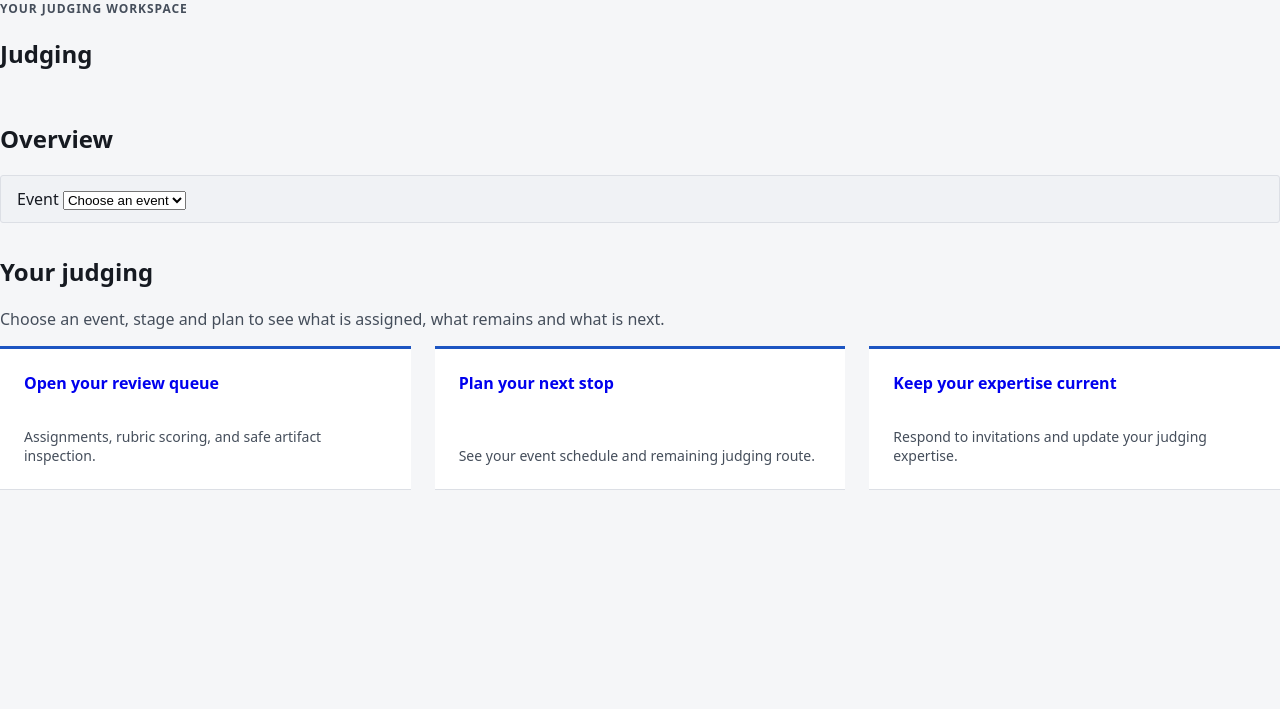
judge navigation › clears the old review queue when switching events
Step 1. Select "First" in the dropdown labelled "Event" → coordinates (124, 200), box [63,191,186,210]
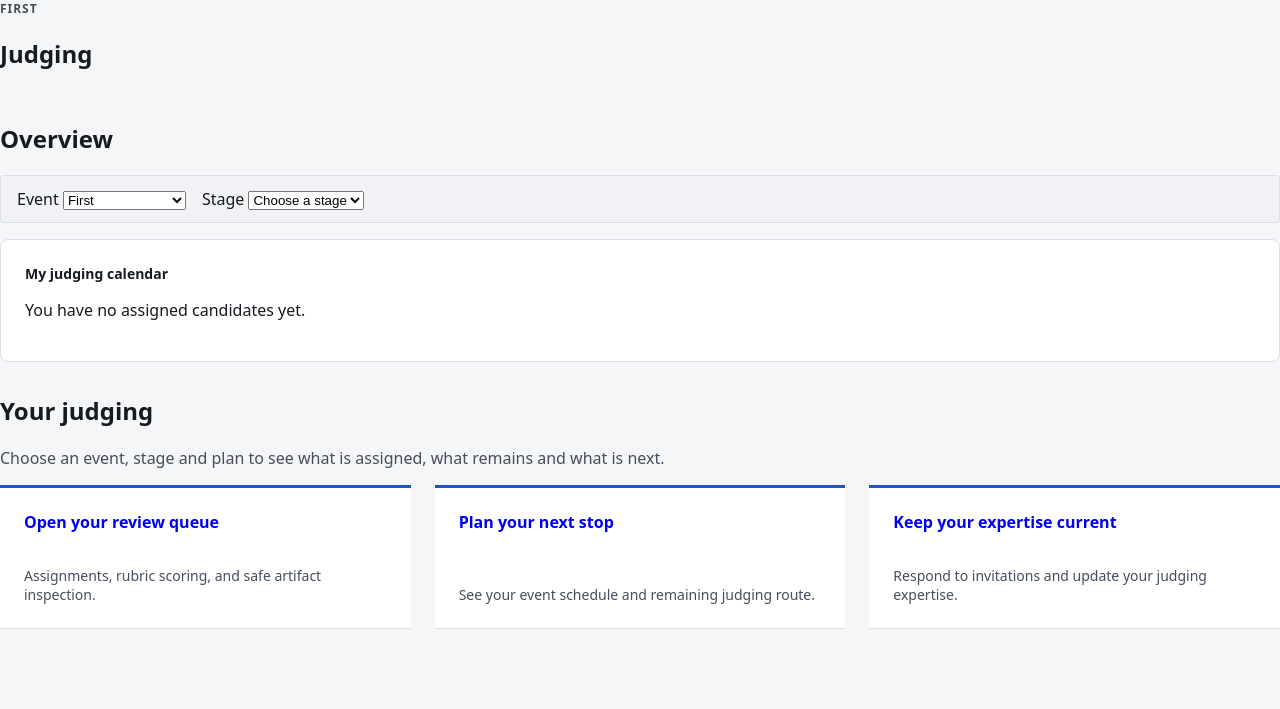
Step 2. Select "Final" in the dropdown labelled "Stage" → coordinates (306, 200), box [248,191,364,210]
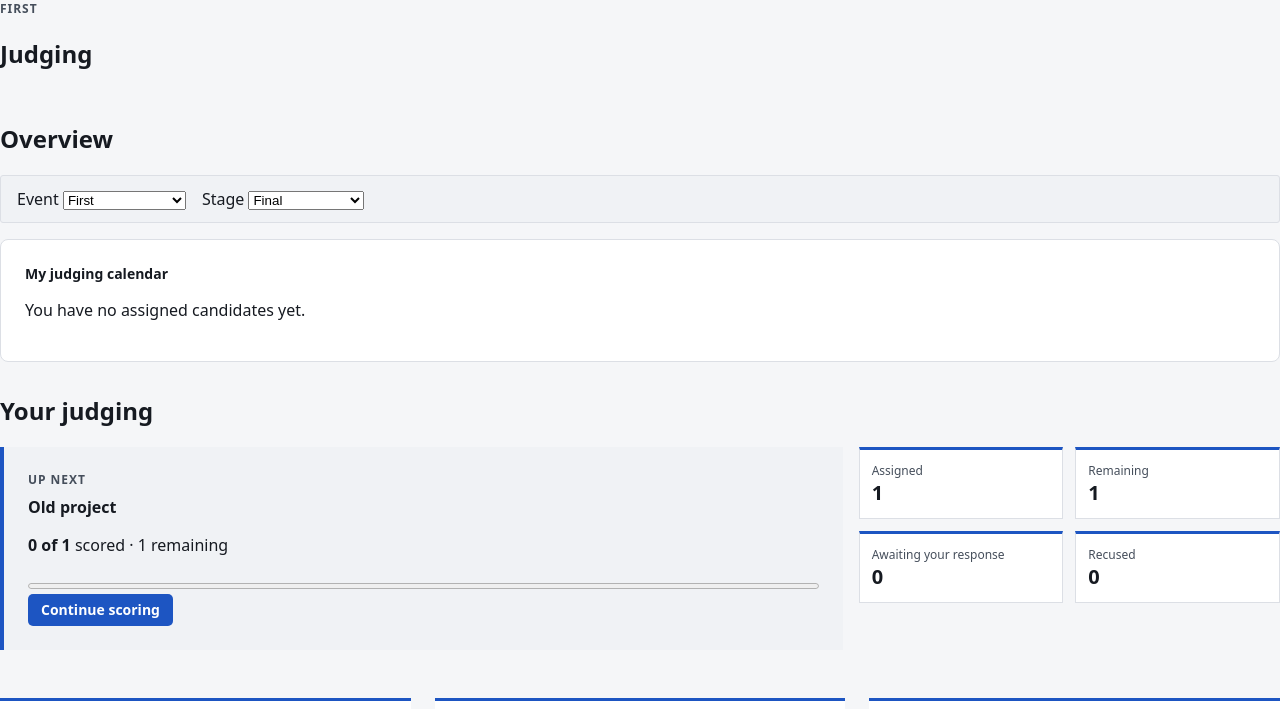
Step 3. Select "Second" in the dropdown labelled "Event" → coordinates (124, 200), box [63,191,186,210]
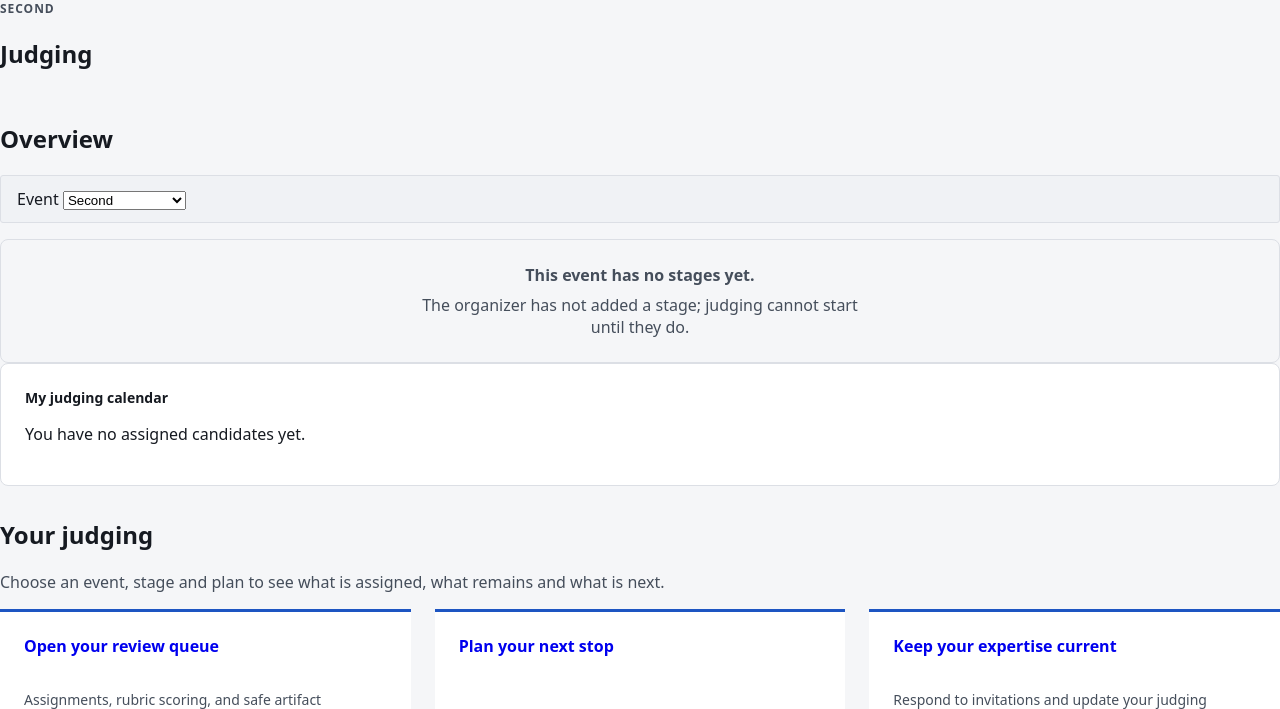
Expected: the text "Old project" is gone
Expected: the number of dropdowns is 1, [63,191,186,210]
